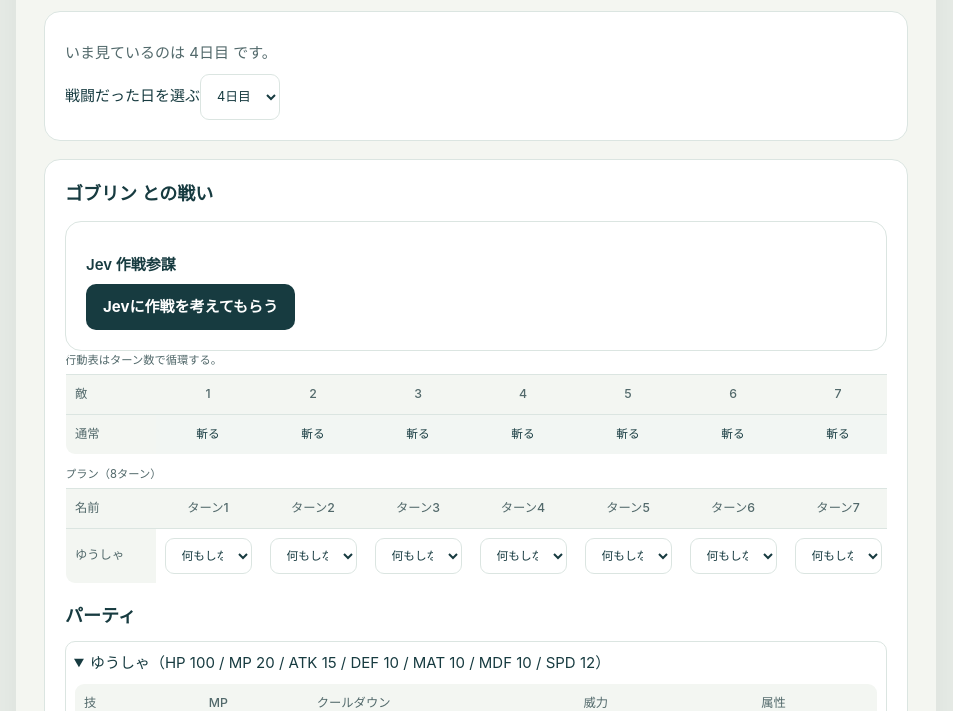
Test: 送信（設計書 §4.4） › プランを組んで送ると、その内容が本文に入る
Expected: the text "プラン（8ターン）" is shown, 65,467 -> 161,481
Select "斬る" in the dropdown named "ゆうしゃ のターン1" at (208, 556), box 164,538 -> 252,574
(page scrolled)
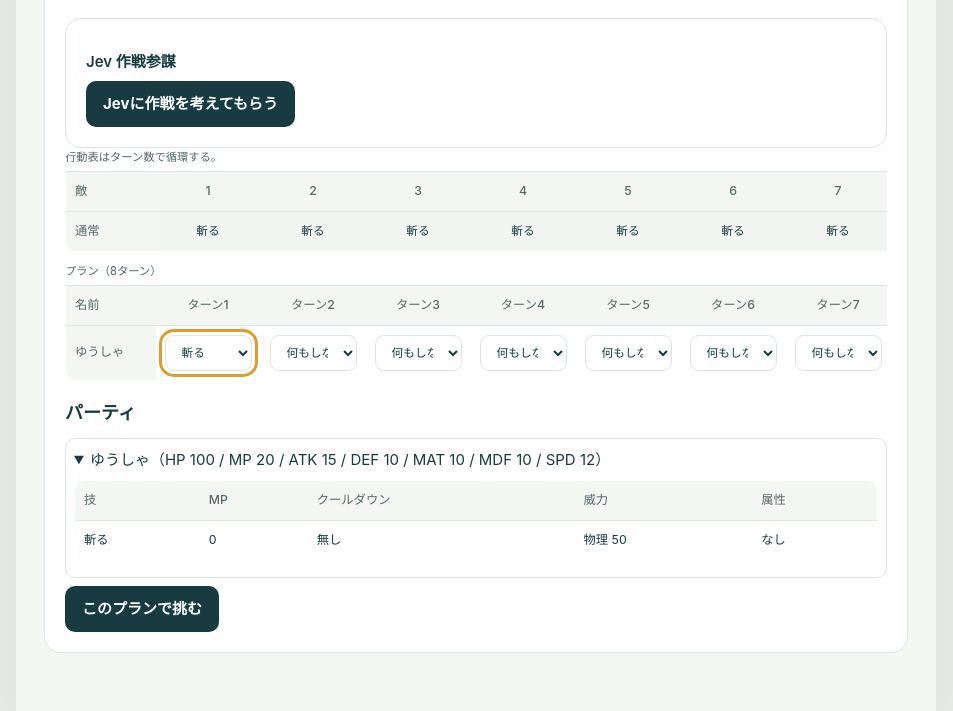
Click the button "このプランで挑む" at (142, 609), box 65,586 -> 219,632
(page scrolled)
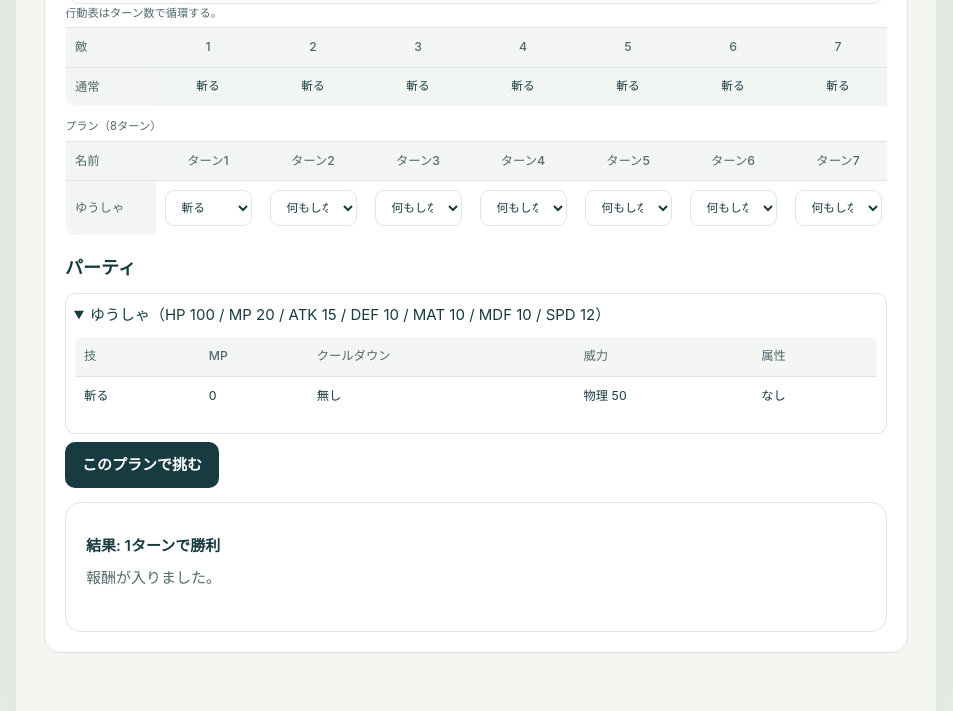
Result: the text "報酬が入りました。" is shown at 86,568 -> 221,587
